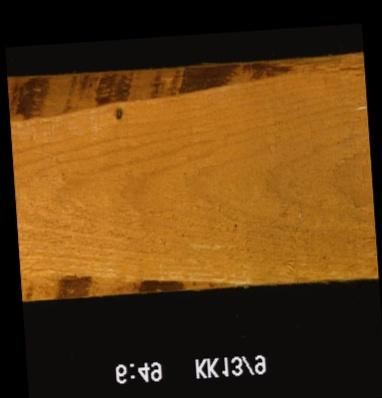small_knot: (109, 106, 124, 121)
wave: (8, 64, 364, 110), (20, 264, 249, 295)
